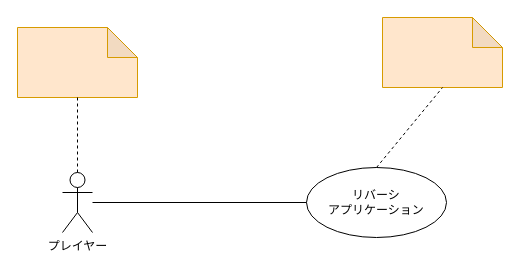
This 520x271 diagram has some shape labels left out. The shapes that lost their labels are listed below. From the top down, each one's centre as x and y in pixels, then its label:
At pixel 77 62: "一人で黒白 交互に打つ".
At pixel 442 52: "Webアプリ".
